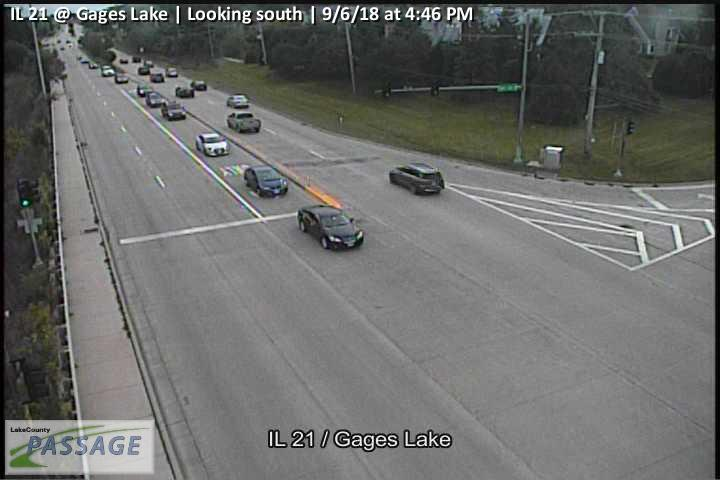SUV: (389, 162, 445, 195), (161, 100, 187, 120), (146, 91, 166, 107), (175, 85, 195, 98), (137, 83, 153, 95), (151, 72, 164, 83), (101, 65, 114, 76), (115, 73, 128, 83), (166, 67, 177, 77)
Sedan: (297, 205, 365, 250), (244, 165, 289, 197), (195, 132, 231, 156), (226, 94, 250, 108), (192, 80, 207, 90), (138, 66, 150, 75)
Truck: (226, 111, 261, 133)
